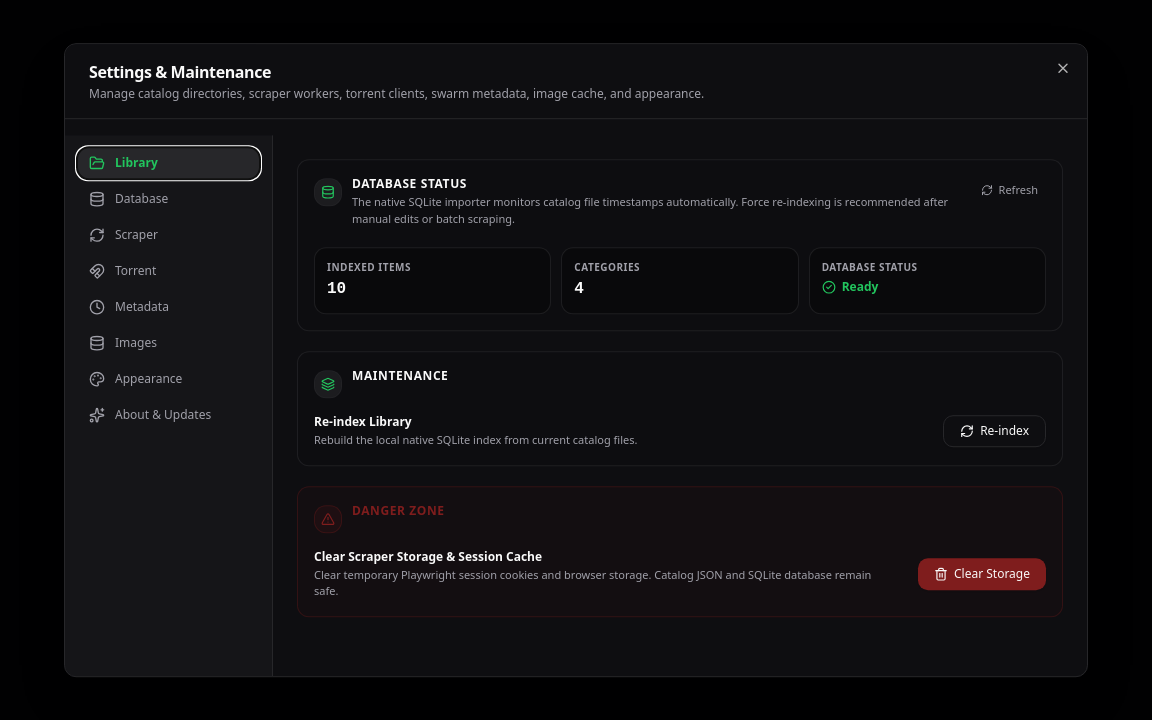
Test: SettingsModal integration tests › switches between sidebar sections smoothly
Expected: the heading "Database Status" is shown, [352, 175, 467, 192]
Note: Switch to Torrent section
Click the tab "Torrent" at (168, 271), box [77, 255, 260, 287]
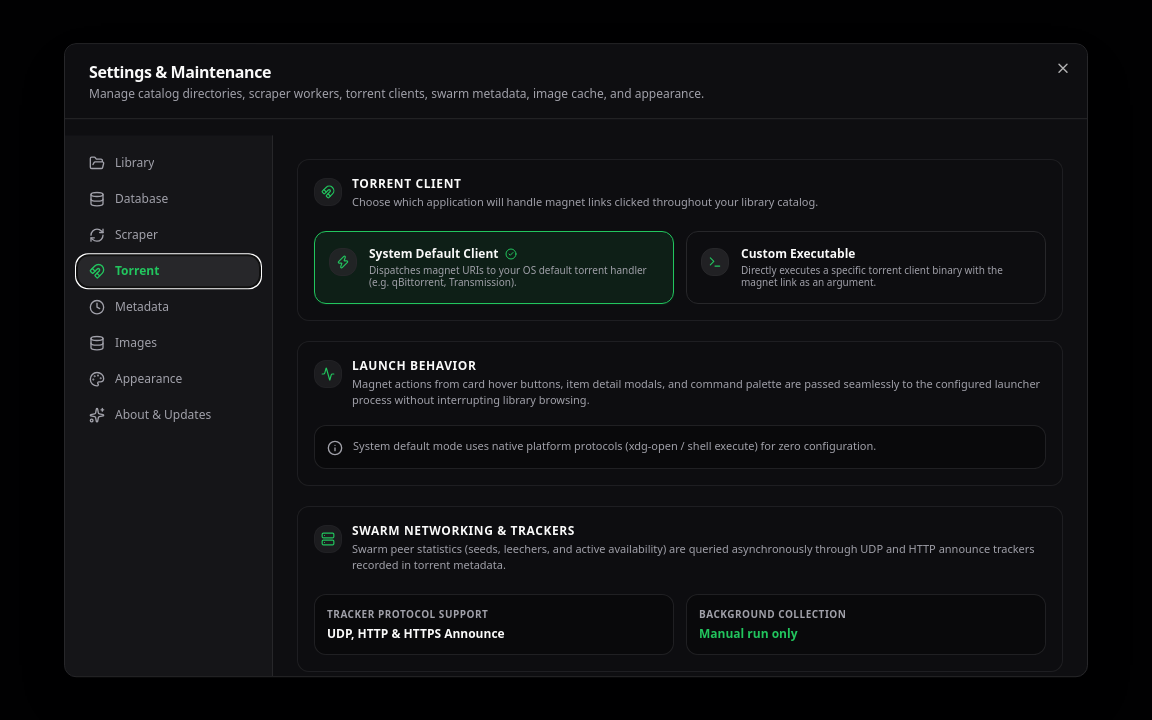
Expected: the text "System Default Client" is shown, [369, 246, 498, 262]
Note: Switch to Metadata section
Click the tab "Metadata" at (168, 307), box [77, 291, 260, 323]
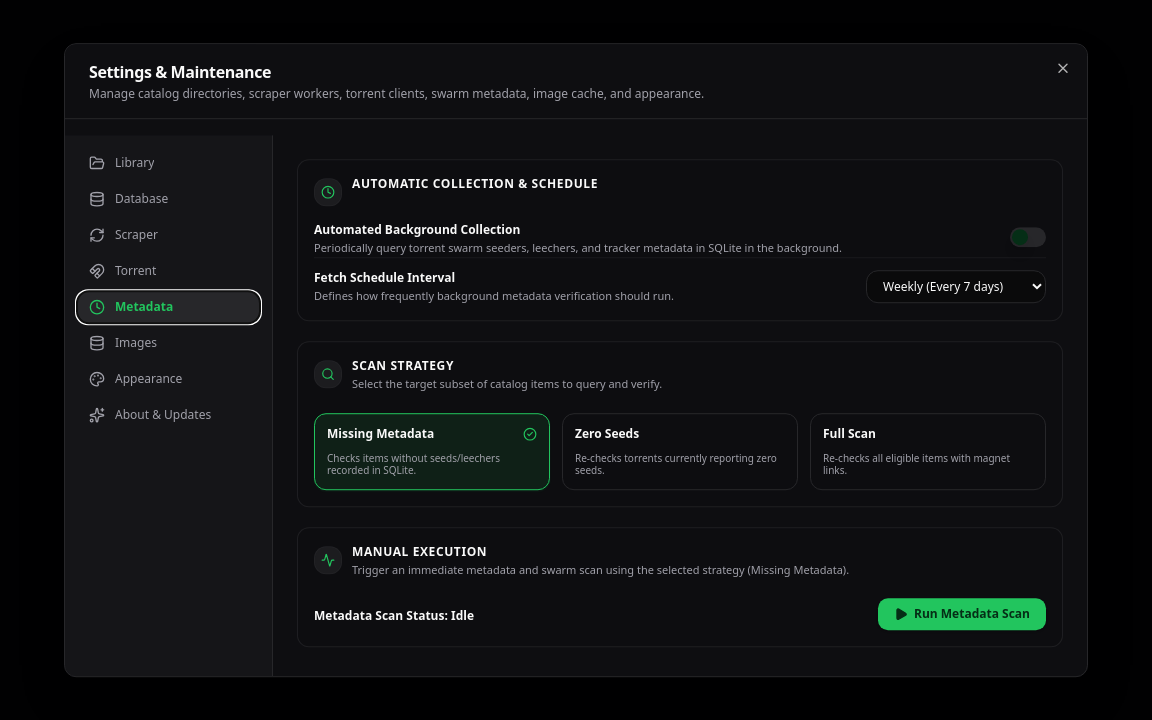
Expected: the heading "Automatic Collection & Schedule" is shown, [352, 176, 598, 192]
Note: Switch to Images section
Click the tab "Images" at (168, 343), box [77, 327, 260, 359]
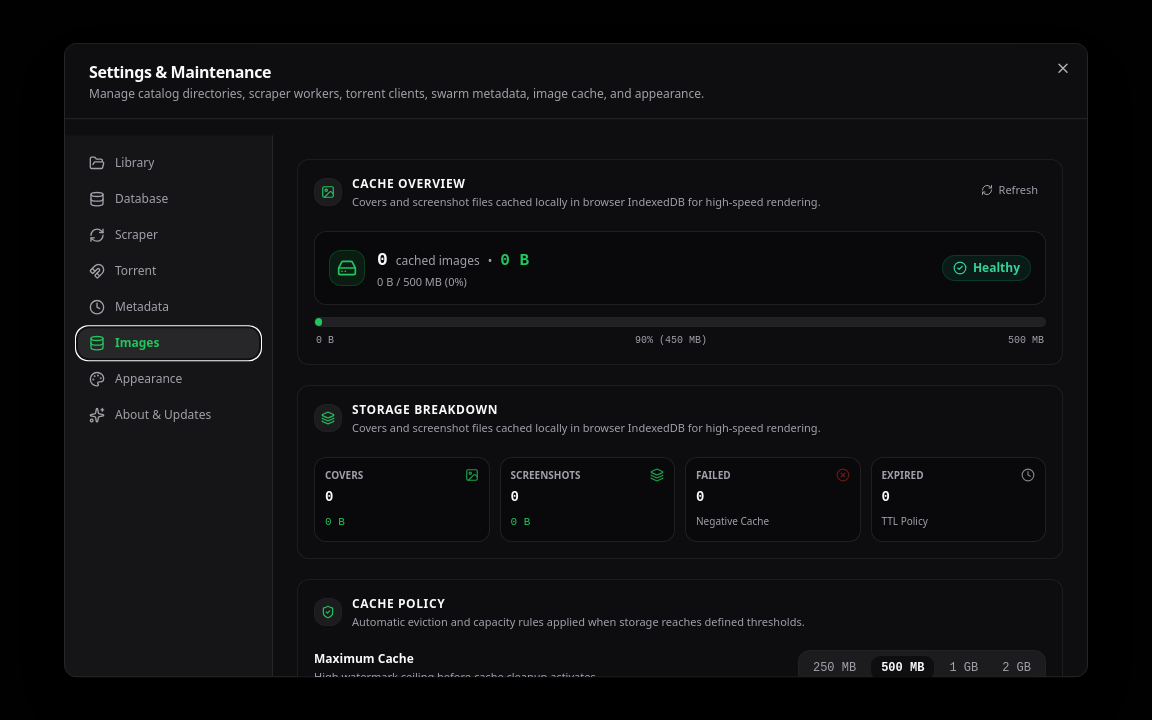
Expected: the heading "Cache Overview" is shown, [352, 175, 465, 192]
